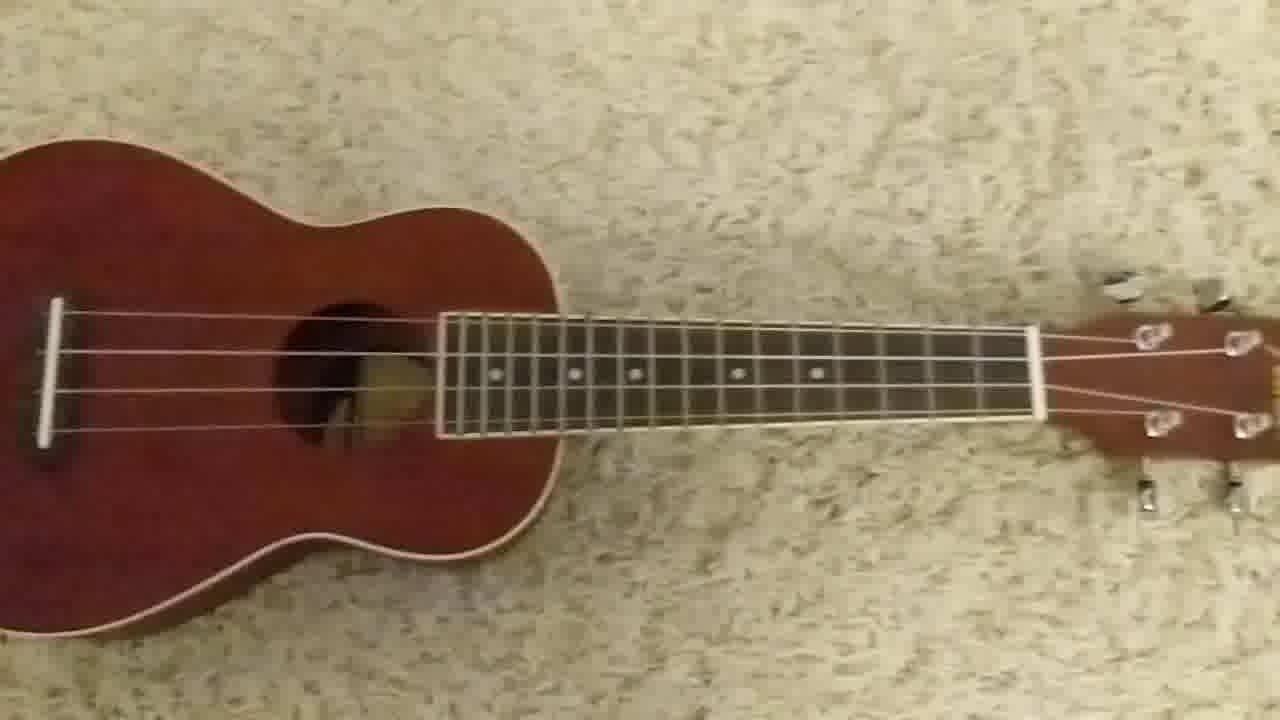Body: (1, 135, 566, 641)
Bridge: (30, 290, 80, 455)
Headstock: (1043, 268, 1280, 518)
